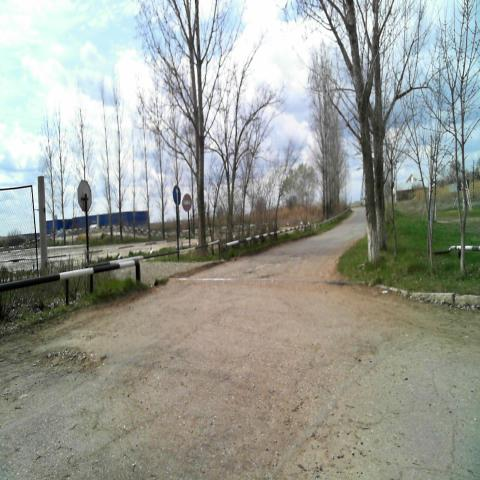3_1: (182, 194, 192, 214)
